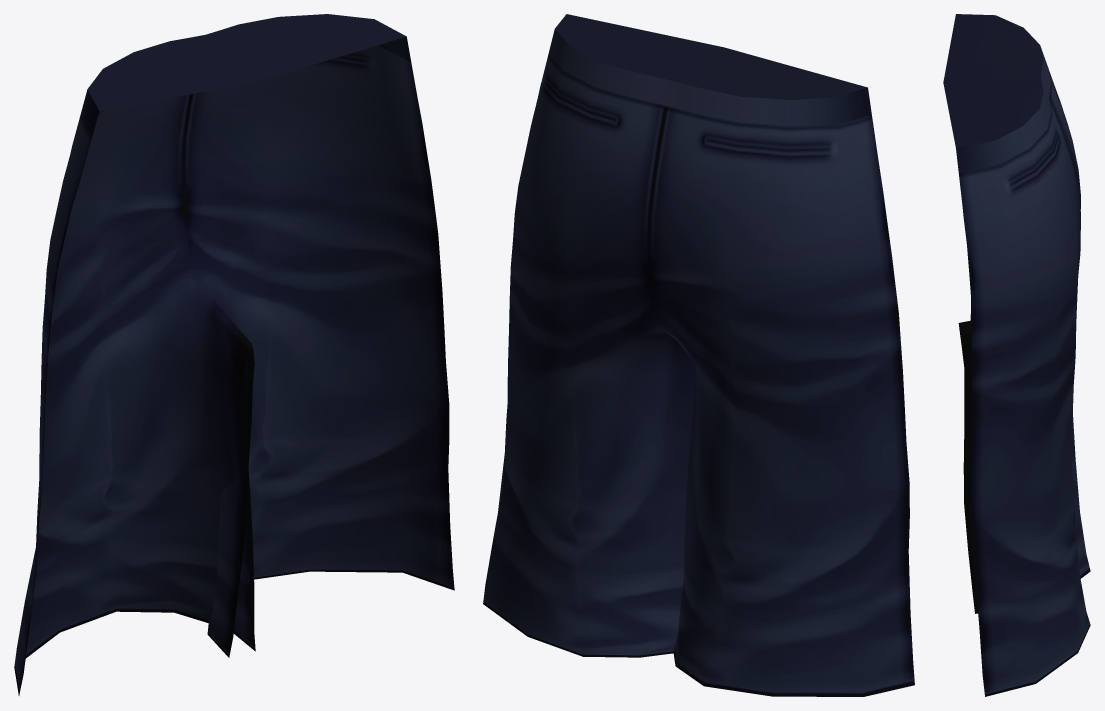
The model's file is M_Lower_dadiku_02_02_hou.FBX.
3 renders of one model, left to right at view 1: azimuth 30°, elevation 25°; view 2: azimuth 150°, elevation 25°; view 3: azimuth 270°, elevation 25°, orthographic. The views are drawn at different scales.
Visible parts, largest first — view 1: M_Lower_dadiku_02_02_hou; view 2: M_Lower_dadiku_02_02_hou; view 3: M_Lower_dadiku_02_02_hou.
Boxes of the visible parts, x1,y1,x2,y2 form: M_Lower_dadiku_02_02_hou: (14, 14, 454, 695); M_Lower_dadiku_02_02_hou: (483, 14, 914, 696); M_Lower_dadiku_02_02_hou: (943, 14, 1090, 696).
Size of the model in its own units: 36.6 by 47.71 by 11.98.
Materials: 1 (1 with a texture image).
